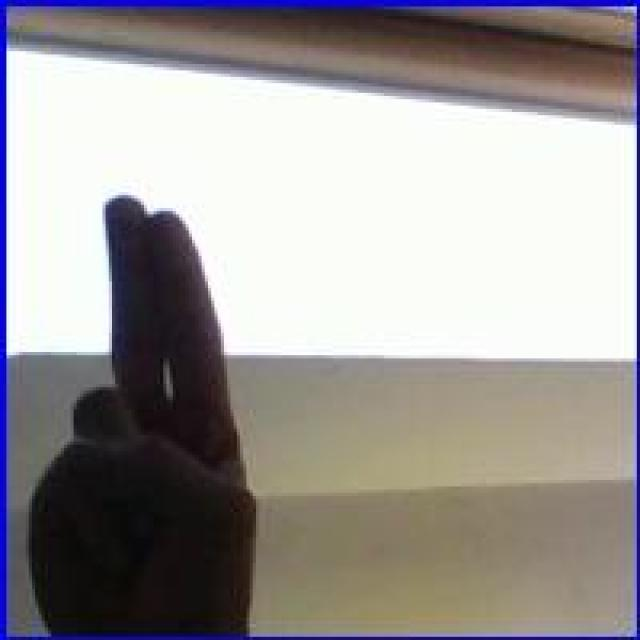U: (21, 189, 264, 637)
